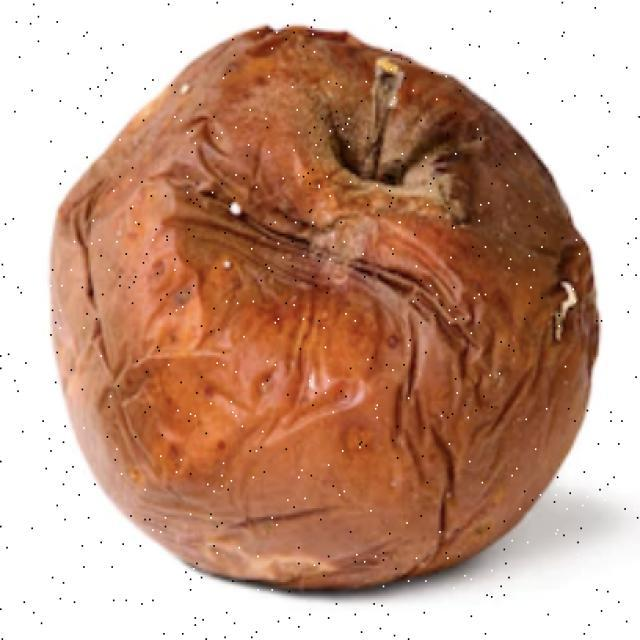Rotten: (67, 47, 618, 575)
